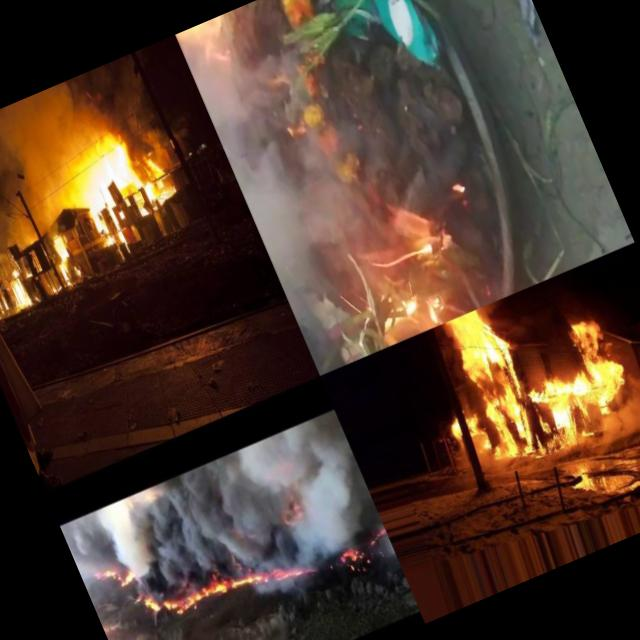fire: (440, 304, 552, 474), (520, 342, 634, 432), (59, 127, 147, 220), (180, 560, 270, 618), (556, 307, 608, 358), (90, 212, 134, 268), (544, 412, 596, 454), (331, 536, 378, 580), (48, 232, 84, 289), (142, 172, 183, 212), (138, 586, 180, 622), (462, 408, 492, 451), (137, 144, 168, 184), (100, 560, 136, 594), (269, 556, 305, 590), (5, 270, 35, 310), (440, 412, 466, 442), (0, 286, 10, 321)
smoke: (175, 4, 378, 345), (100, 409, 372, 597), (0, 94, 81, 225), (34, 68, 119, 152), (0, 170, 36, 264), (588, 387, 640, 452), (445, 447, 477, 488), (476, 447, 504, 483), (625, 365, 640, 397)
